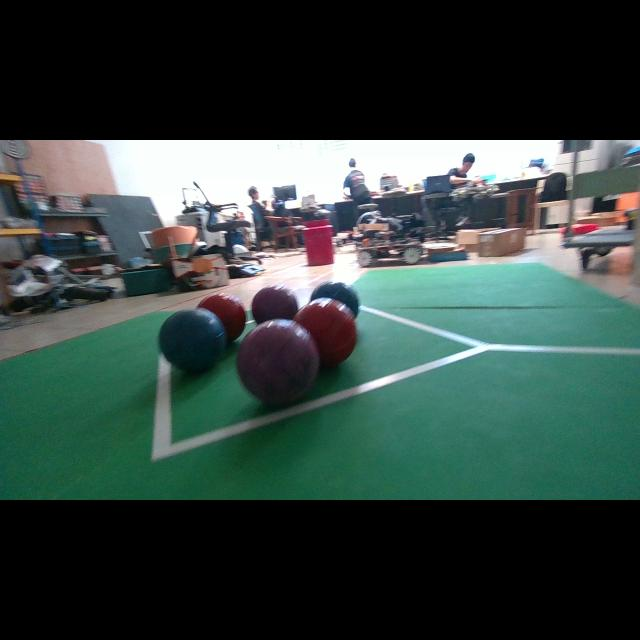B: (159, 308, 226, 371), (311, 280, 359, 316)
P: (236, 319, 320, 406), (251, 284, 298, 324)
R: (294, 298, 358, 366), (198, 292, 246, 342)
